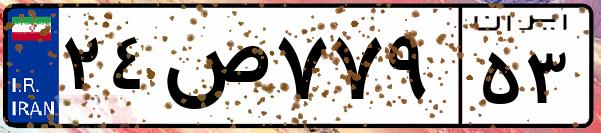2: (57, 26, 110, 100)
3: (525, 38, 570, 115)
4: (110, 28, 158, 98)
5: (475, 38, 525, 113)
7: (270, 28, 330, 110), (330, 28, 385, 110)
9: (385, 28, 445, 110)
ص: (158, 20, 270, 120)
